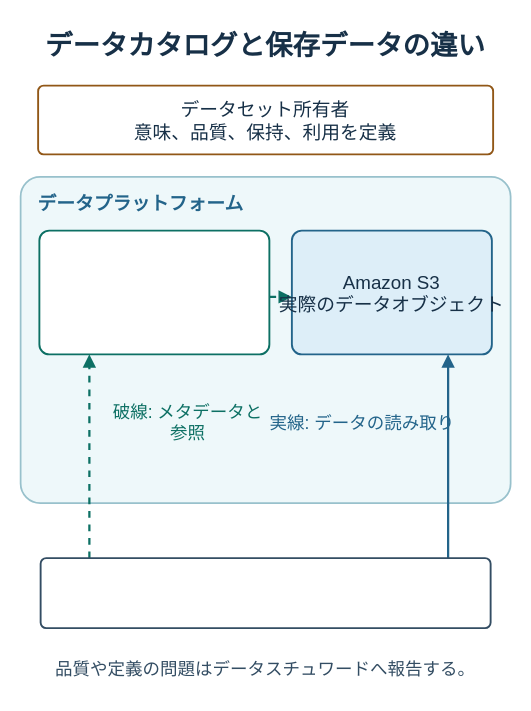
Some shapes in this 531 by 711 pixel diagram are drawn without their labels. The centre of each missing label's shape, as x and y in pixels:
AWS Glue Data Catalog メタデータテーブル 場所、スキーマ、プロパティ: (154,292)
コンシューマークエリエンジン メタデータと実データを別々に読む: (265,592)
